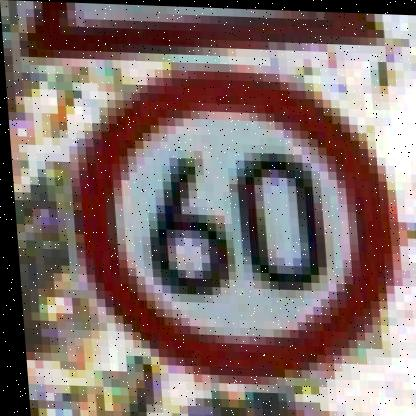Speed Limit -60-: (55, 58, 411, 385)
